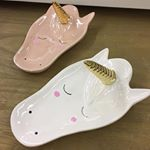other: (8, 46, 139, 150)
